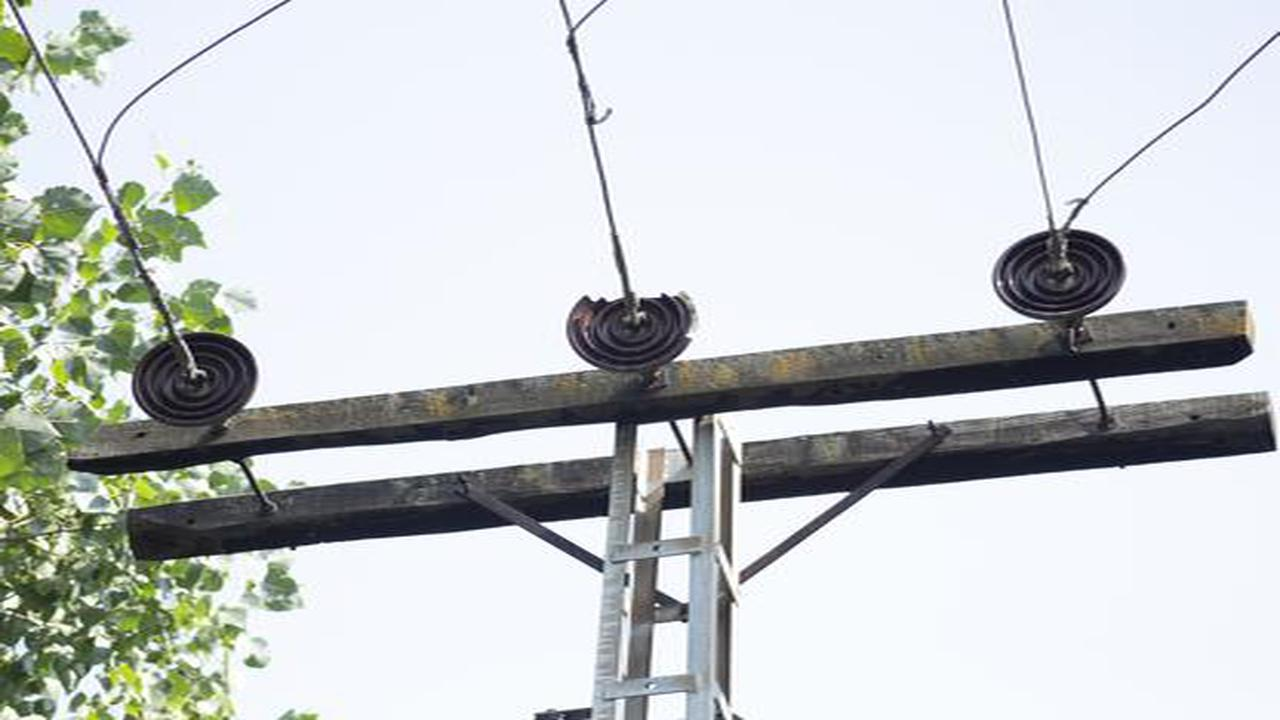defect_disc: (561, 288, 703, 375)
insulator_disc: (988, 224, 1132, 323), (129, 324, 261, 428)
